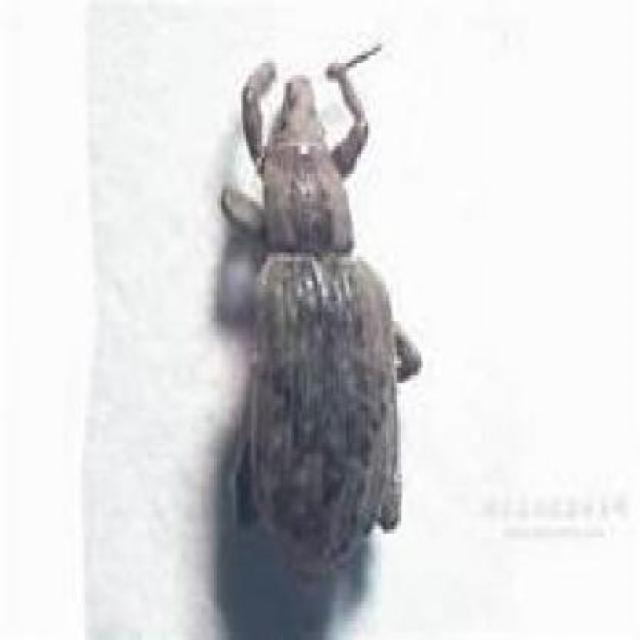rice-bug: (222, 53, 402, 564)
